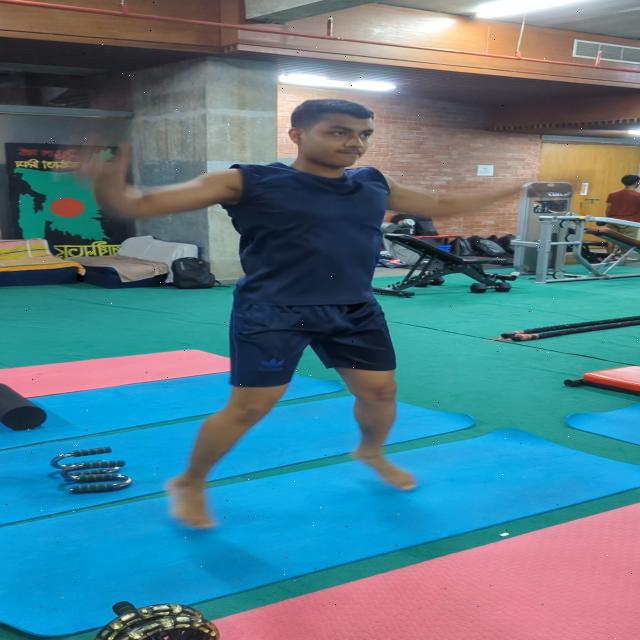Normal_JumpingJacks: (71, 68, 488, 508)
